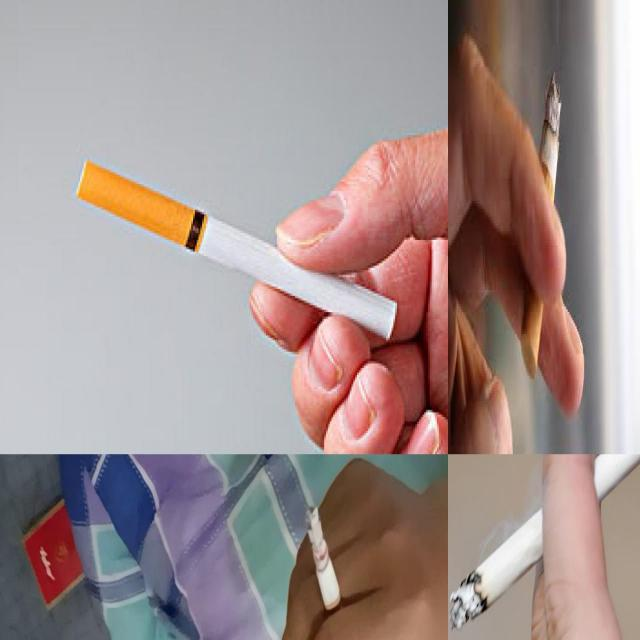cigarette: (71, 153, 403, 343), (448, 454, 640, 633), (521, 70, 562, 382), (306, 506, 348, 640)
